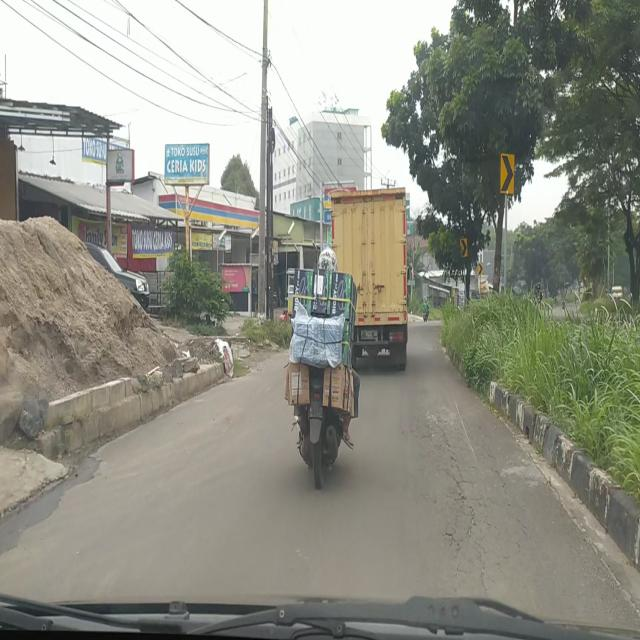Drain Hole: (410, 407, 529, 597)
